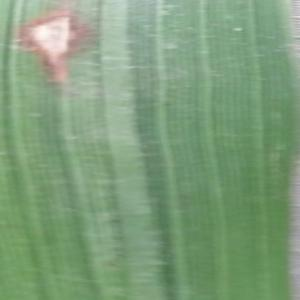Rice_Blast: (11, 6, 100, 84)
